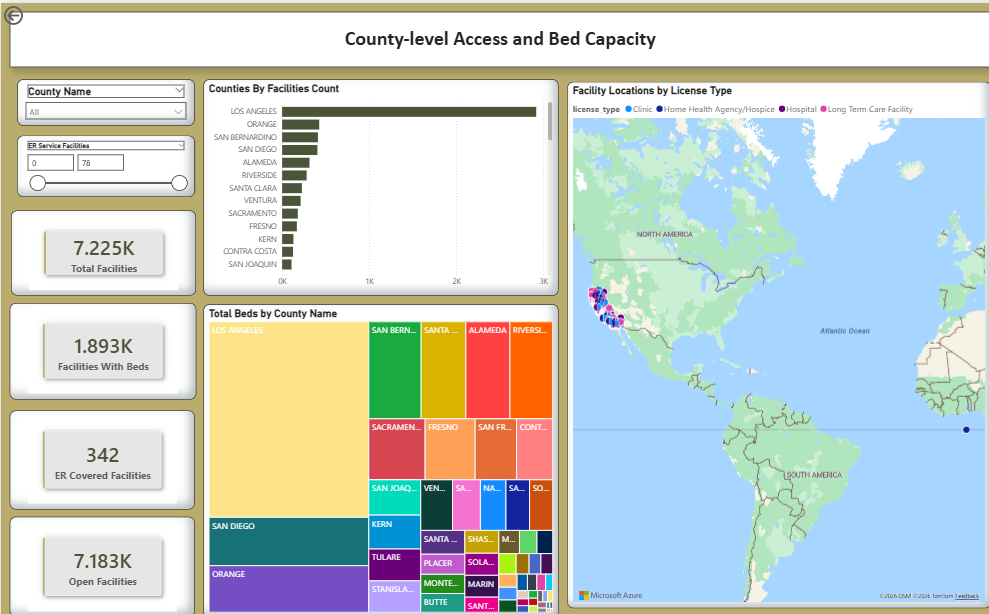

The dashboard page shown, as its layout file describes it:
{"tool":"powerbi","page":{"name":"County Level Analysis  ","canvas":[1600,1000],"ordinal":1},"visuals":[{"type":"textbox","box":[14.3,14.3,1570,88.6],"z":0},{"type":"cardVisual","fields":{"Data":["Sum(public facilities_by_county.total_facilities)"]},"box":[16,332,296,136],"z":1000},{"type":"cardVisual","fields":{"Data":["Sum(public facilities_by_county.facilities_with_beds)"]},"box":[14,480,298,154],"z":2000},{"type":"cardVisual","fields":{"Data":["Sum(public facilities_by_county.er_service_facilities)"]},"box":[14,652,296,158],"z":3000},{"type":"cardVisual","fields":{"Data":["Sum(public facilities_by_county.open_facilities)"]},"box":[14,822,296,160],"z":5000},{"type":"clusteredBarChart","title":"Counties By Facilities Count","fields":{"Category":["public facilities_by_county.county_name"],"Y":["Sum(public facilities_by_county.total_facilities)"]},"box":[324,122,568,346],"z":6000},{"type":"slicer","fields":{"Values":["public facilities_by_county.county_name"]},"box":[26,122,284,74],"z":8000},{"type":"azureMap","title":"Facility Locations by License Type","fields":{"X":["public healthcare_data.longitude"],"Series":["public healthcare_data.license_type"],"Y":["public healthcare_data.latitude"]},"box":[906,126,678,842],"z":9000},{"type":"actionButton","box":[0,0,100,40],"z":10000},{"type":"slicer","fields":{"Values":["public facilities_by_county.er_service_facilities"]},"box":[26,212,284,98],"z":10001},{"type":"treemap","title":" Total Beds by County Name","fields":{"Group":["public facilities_by_county.county_name"],"Values":["Sum(public facilities_by_county.total_beds)"]},"box":[324,482,568,502],"z":10002}]}

Visuals, with their boxes in screenshot pixels (x1, y1, x2, y2), scaled from the page's 1600x1000 canvas onto the 989x614 screenshot:
textbox: [9, 9, 979, 63]
cardVisual - Sum(public facilities_by_county.total_facilities): [10, 204, 193, 287]
cardVisual - Sum(public facilities_by_county.facilities_with_beds): [9, 295, 193, 389]
cardVisual - Sum(public facilities_by_county.er_service_facilities): [9, 400, 192, 497]
cardVisual - Sum(public facilities_by_county.open_facilities): [9, 505, 192, 603]
"Counties By Facilities Count" clusteredBarChart: [200, 75, 551, 287]
slicer - public facilities_by_county.county_name: [16, 75, 192, 120]
"Facility Locations by License Type" azureMap: [560, 77, 979, 594]
actionButton: [0, 0, 62, 25]
slicer - public facilities_by_county.er_service_facilities: [16, 130, 192, 190]
" Total Beds by County Name" treemap: [200, 296, 551, 604]
